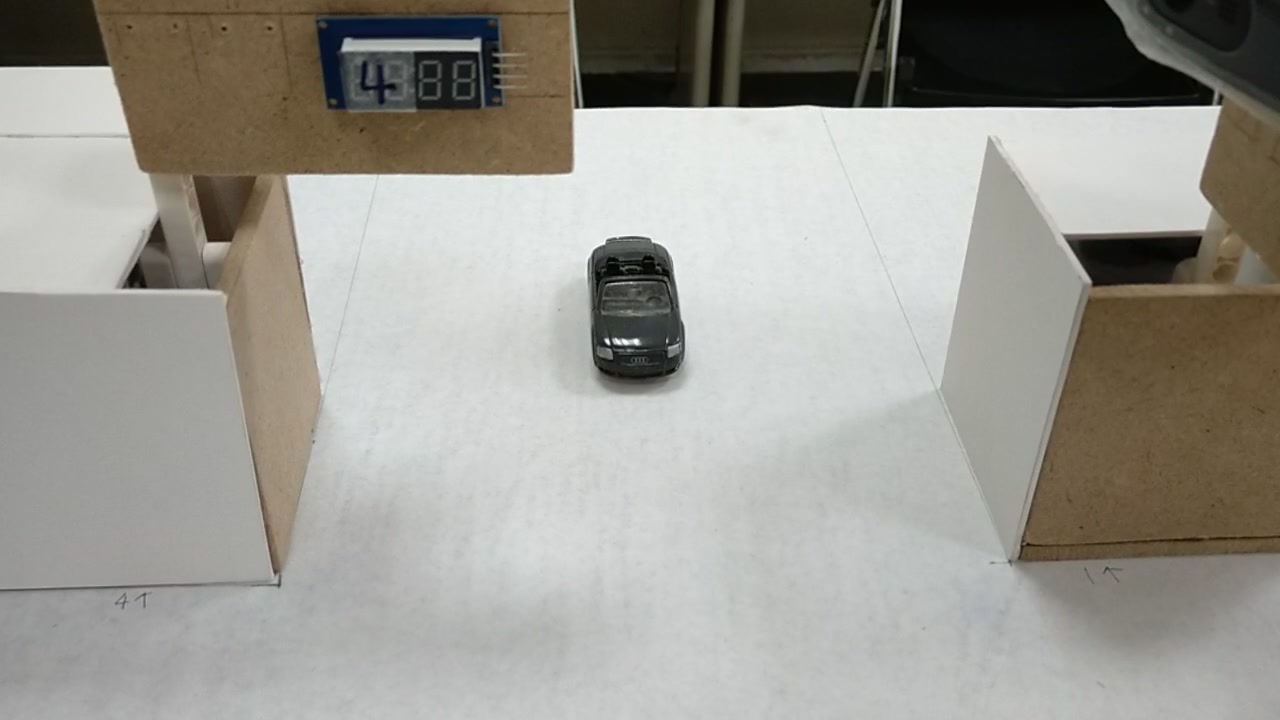car: (580, 236, 689, 381)
